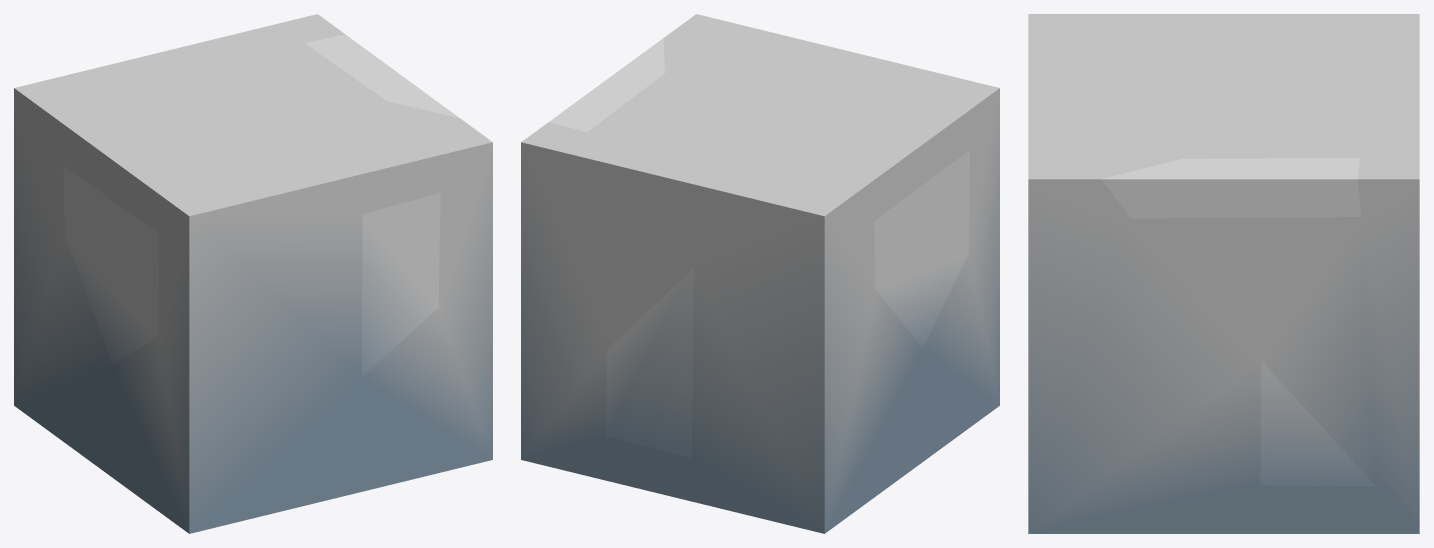
Rendered from Crate.gltf.
The picture shows the model from 3 angles, left to right: view 1: azimuth 30°, elevation 25°; view 2: azimuth 150°, elevation 25°; view 3: azimuth 270°, elevation 25°; orthographic projection. The views are drawn at different scales.
Visible parts, largest first — view 1: CrateMesh; view 2: CrateMesh; view 3: CrateMesh.
Part boxes in pixels (x1,y1,x2,y2): CrateMesh: [14, 14, 492, 533]; CrateMesh: [521, 14, 999, 533]; CrateMesh: [1028, 14, 1419, 533].
Bounding box in the file's own units: 2 × 2 × 2.
